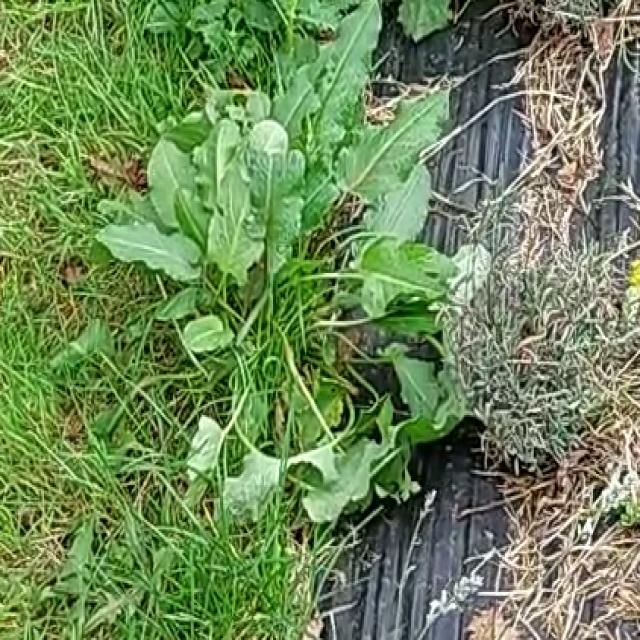organic waste: (91, 26, 481, 555)
